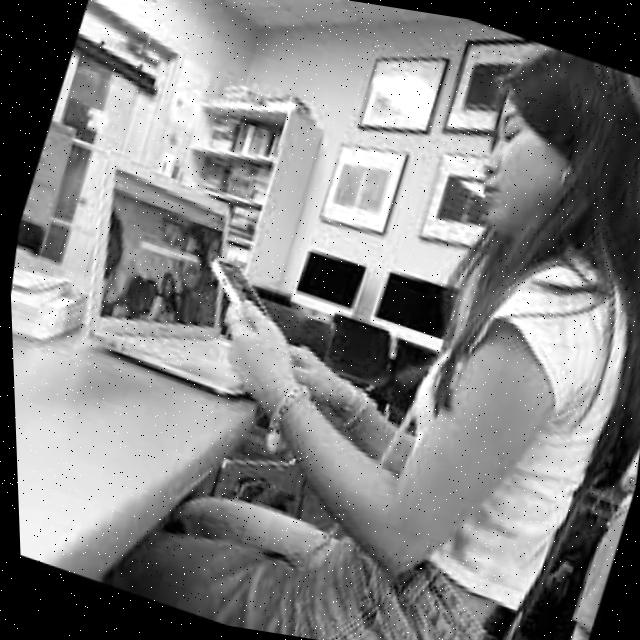phone: (190, 249, 282, 324)
